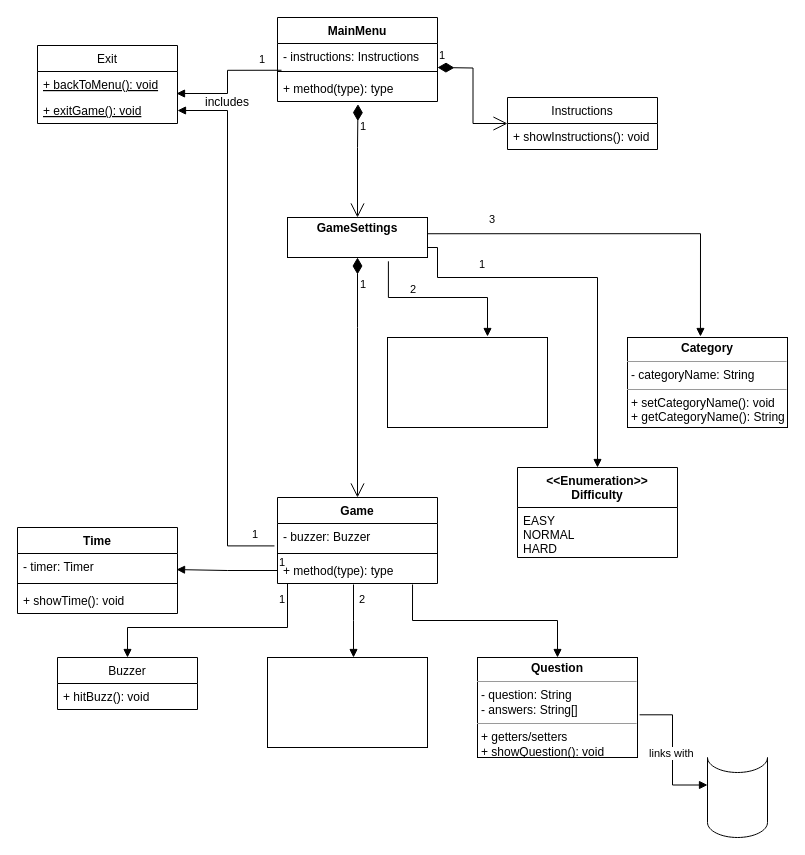
This 805x855 diagram has some shape labels left out. The shapes that lost their labels are listed below. From the top down, each one's centre as x and y in pixels, then its label:
At pixel 467 382: "Team - name: String + setName(): void + getName(): String".
At pixel 347 702: "Score - points: int + setPoints(): void + getPoints(): int".
At pixel 737 797: "Question DB".
